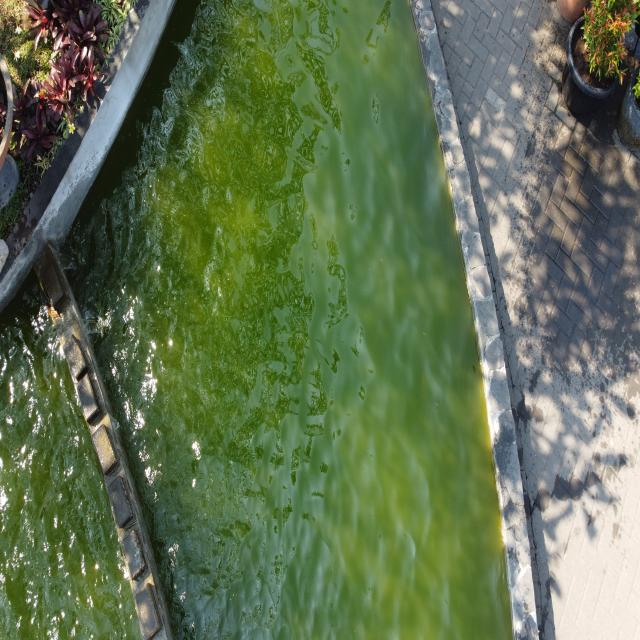Ponds: (32, 2, 539, 638), (1, 233, 158, 640)
